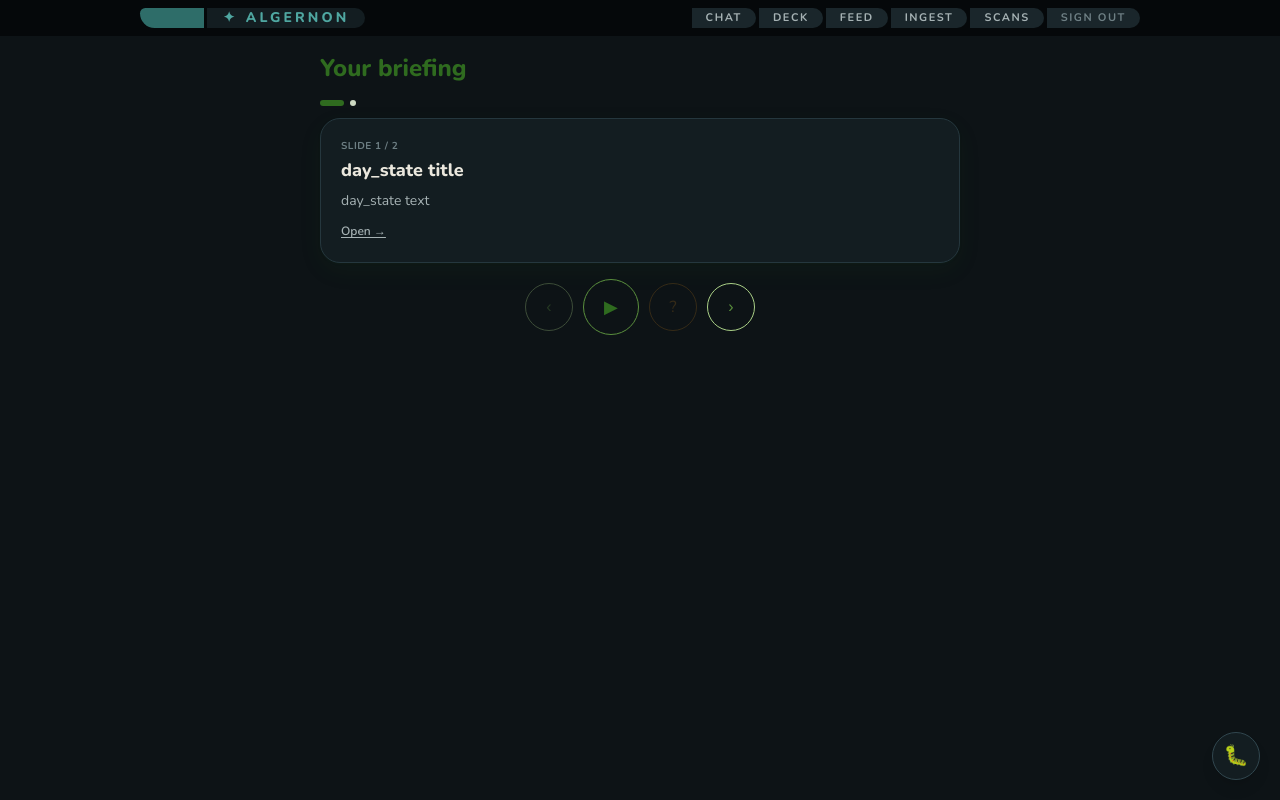
Test: PlayerPage — controls + first-class interruption (C3c ask-wiring) › ask carries the paused slide as the primer, answers as a card, resumes at position
Check: the element with test id "player" is shown, box [320,100,960,335]
Click the button with test id "player-play": click(611, 307) [583,279,639,335]
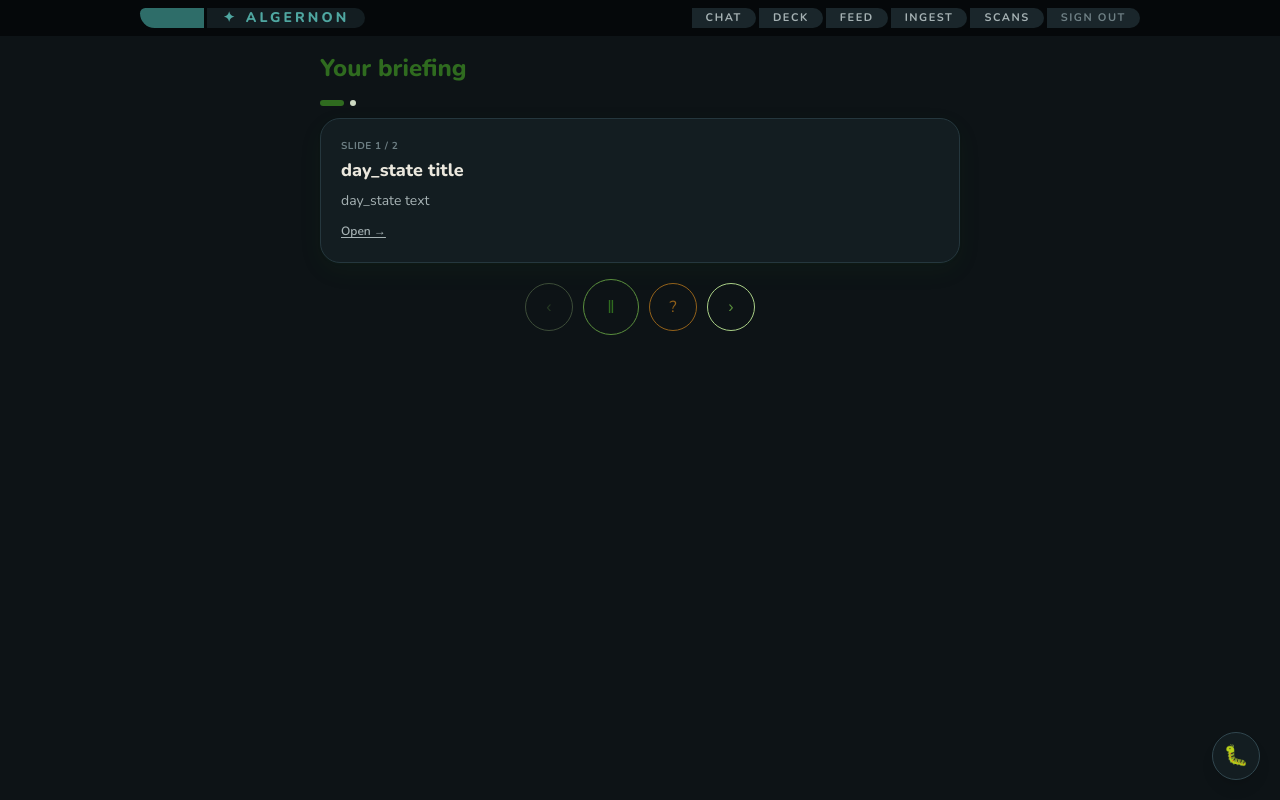
Note: Advance to slide 1 (health) — the paused slide the primer must reflect.
Click the button with test id "player-next": click(731, 307) [707,283,755,331]
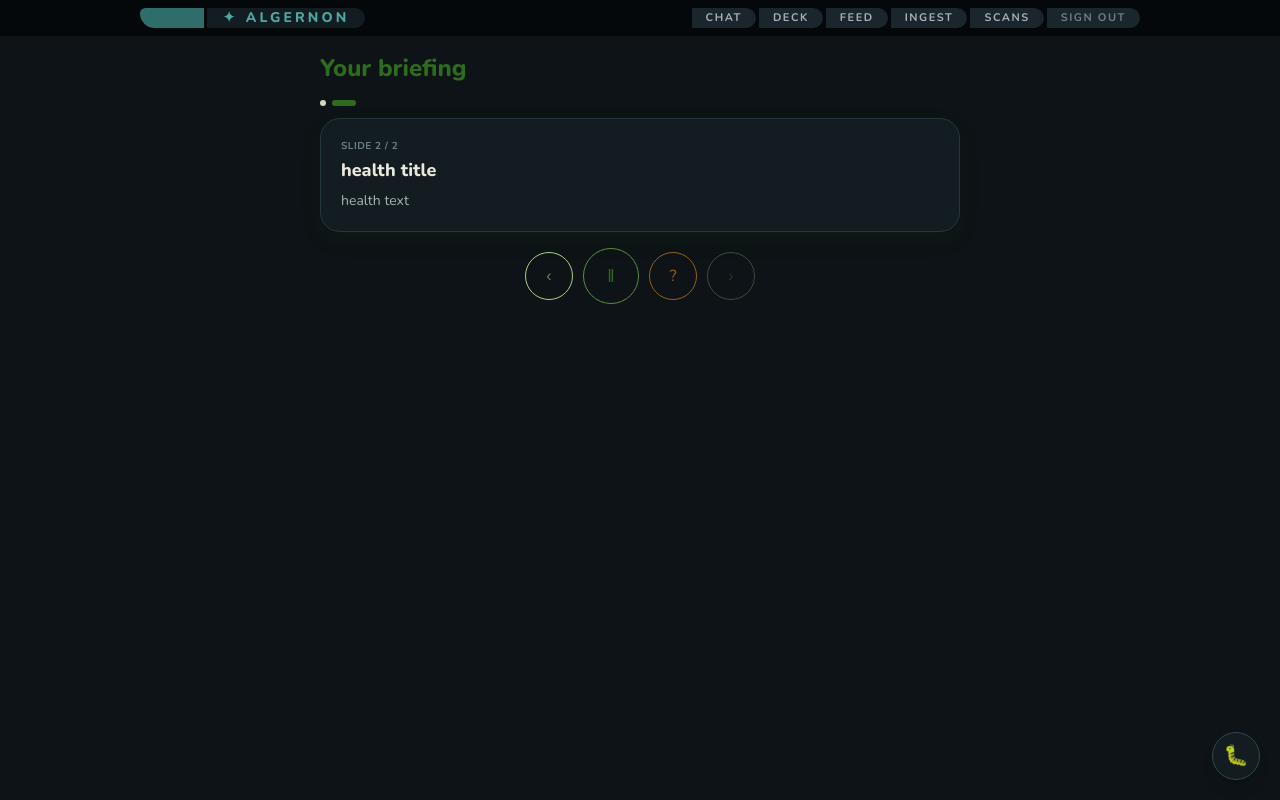
Check: the element with test id "player-slide" has attribute data-section="health", box [320,118,960,232]
Click the button with test id "player-ask-open": click(673, 276) [649,252,697,300]
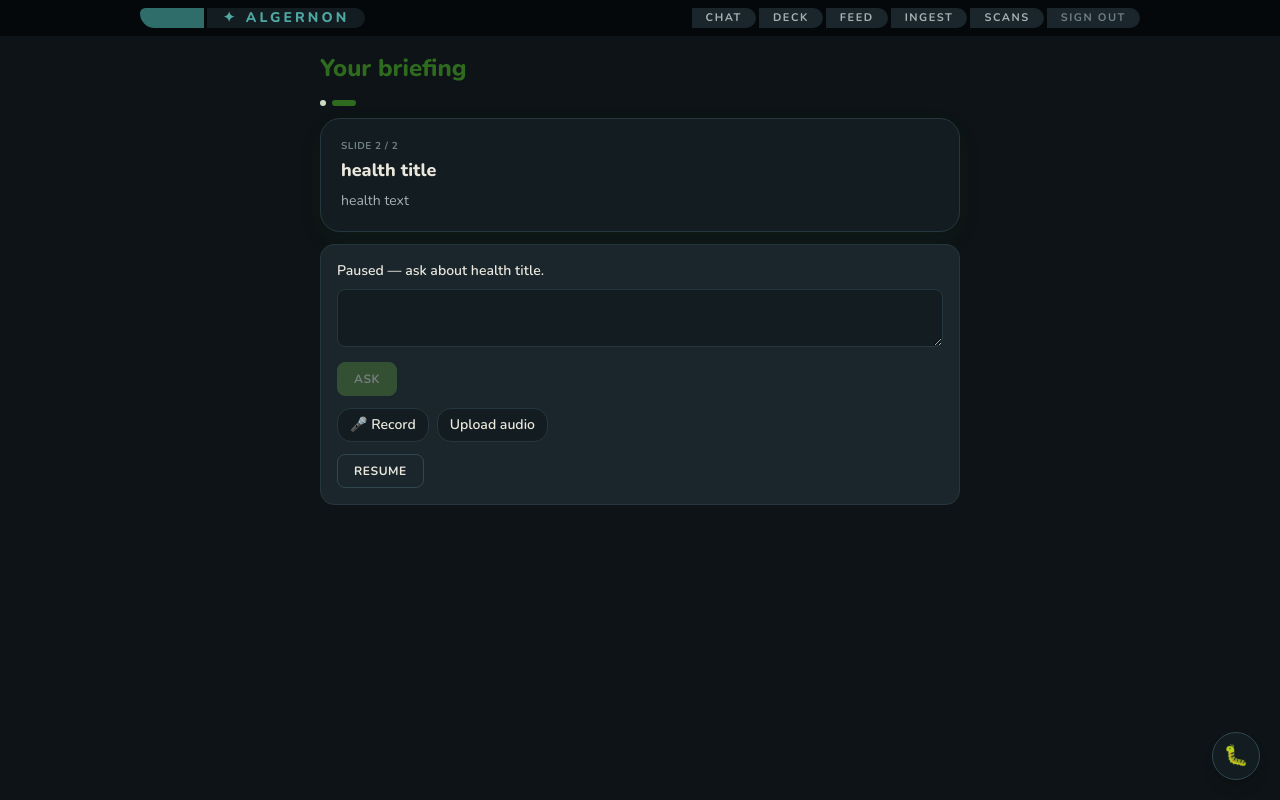
In the text box with test id "player-ask-input": (640, 318) [337,289,943,347], type "why is that yellow?"
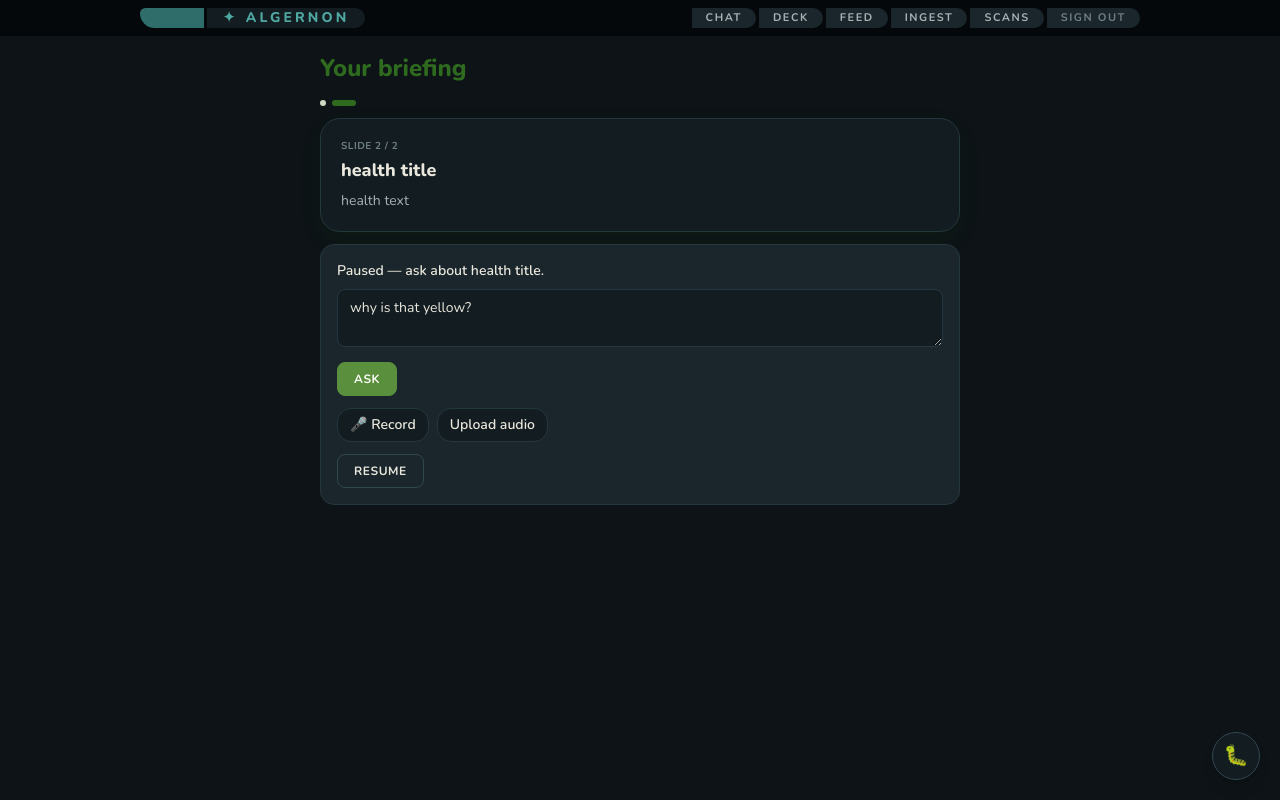
Click the button with test id "player-ask-send": click(367, 379) [337,362,397,396]
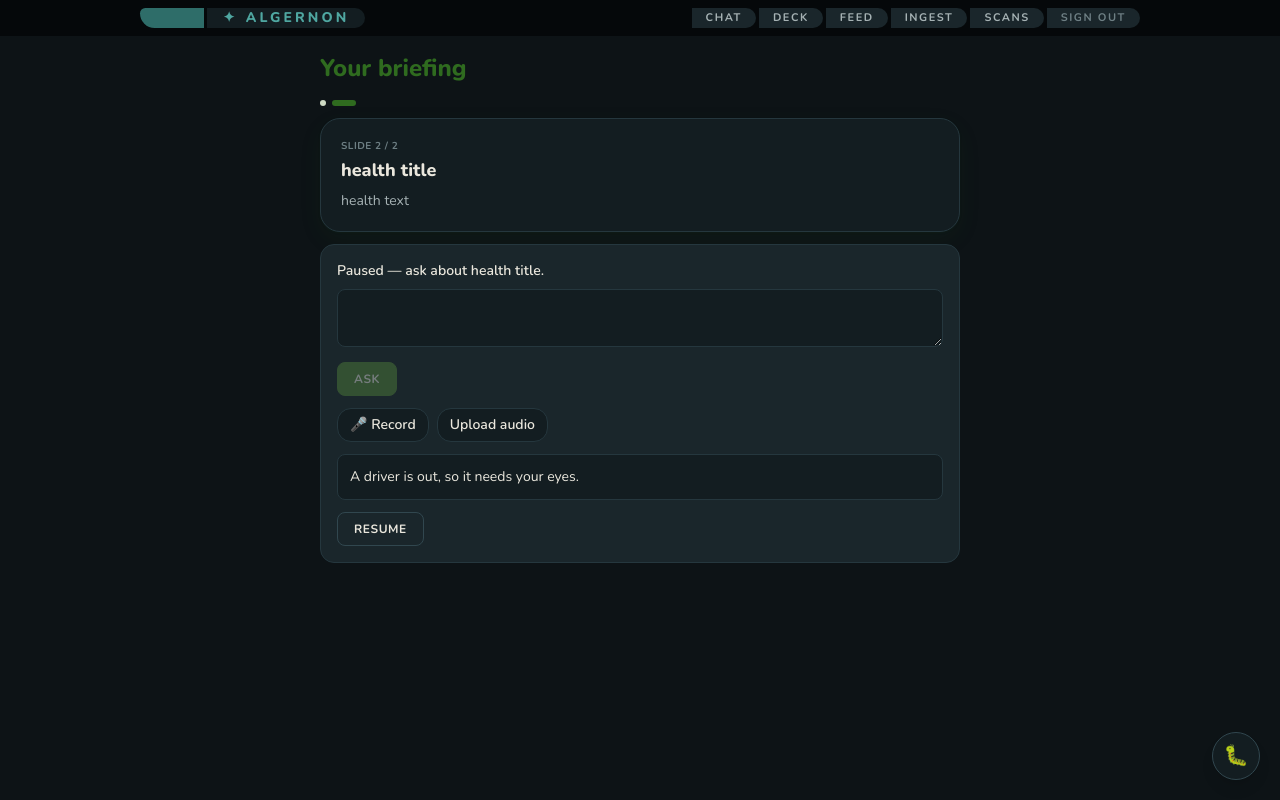
Check: the text "A driver is out, so it needs your eyes." is shown, box [337,454,943,500]
Check: the text with test id "player-ask-answer" shows "A driver is out", box [350,467,579,486]
Note: Resume returns to the held slide (health), not the top.
Click the button with test id "player-resume": click(380, 529) [337,512,424,546]
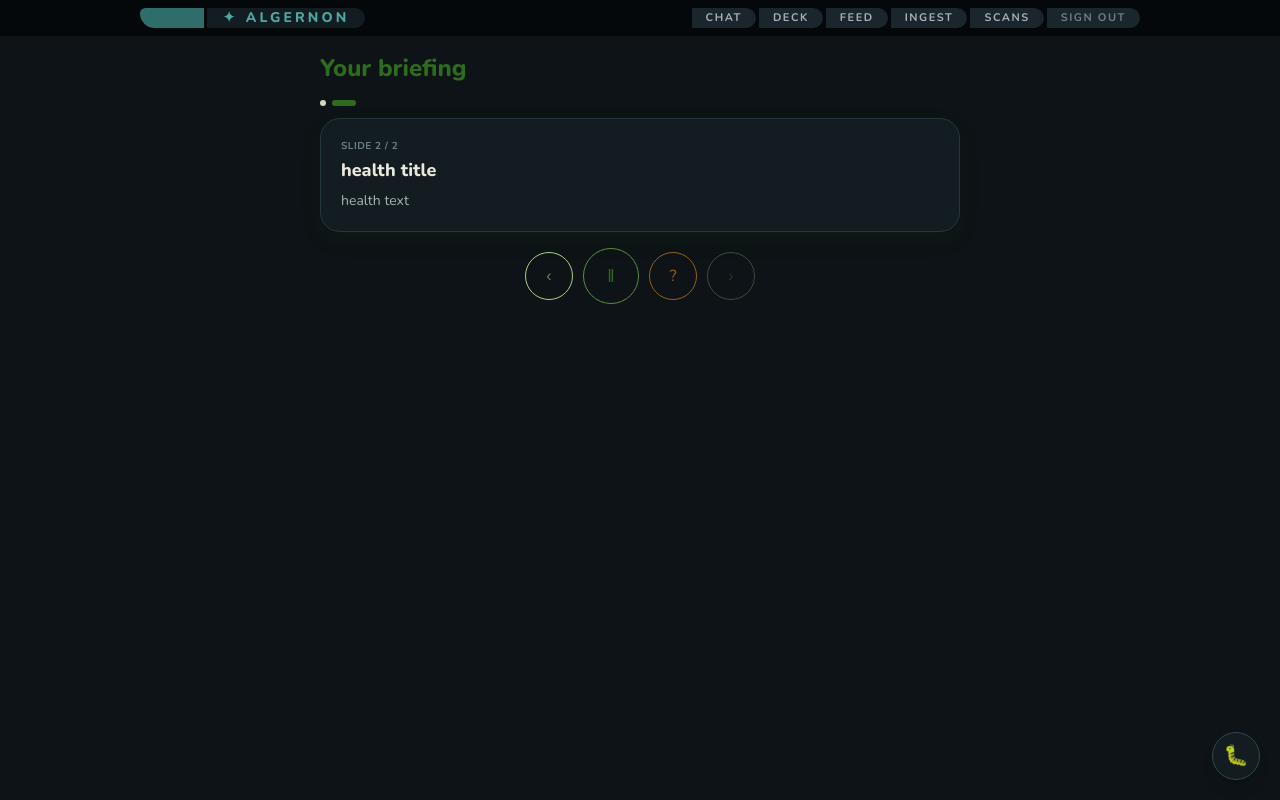
Check: the element with test id "player-ask" is gone
